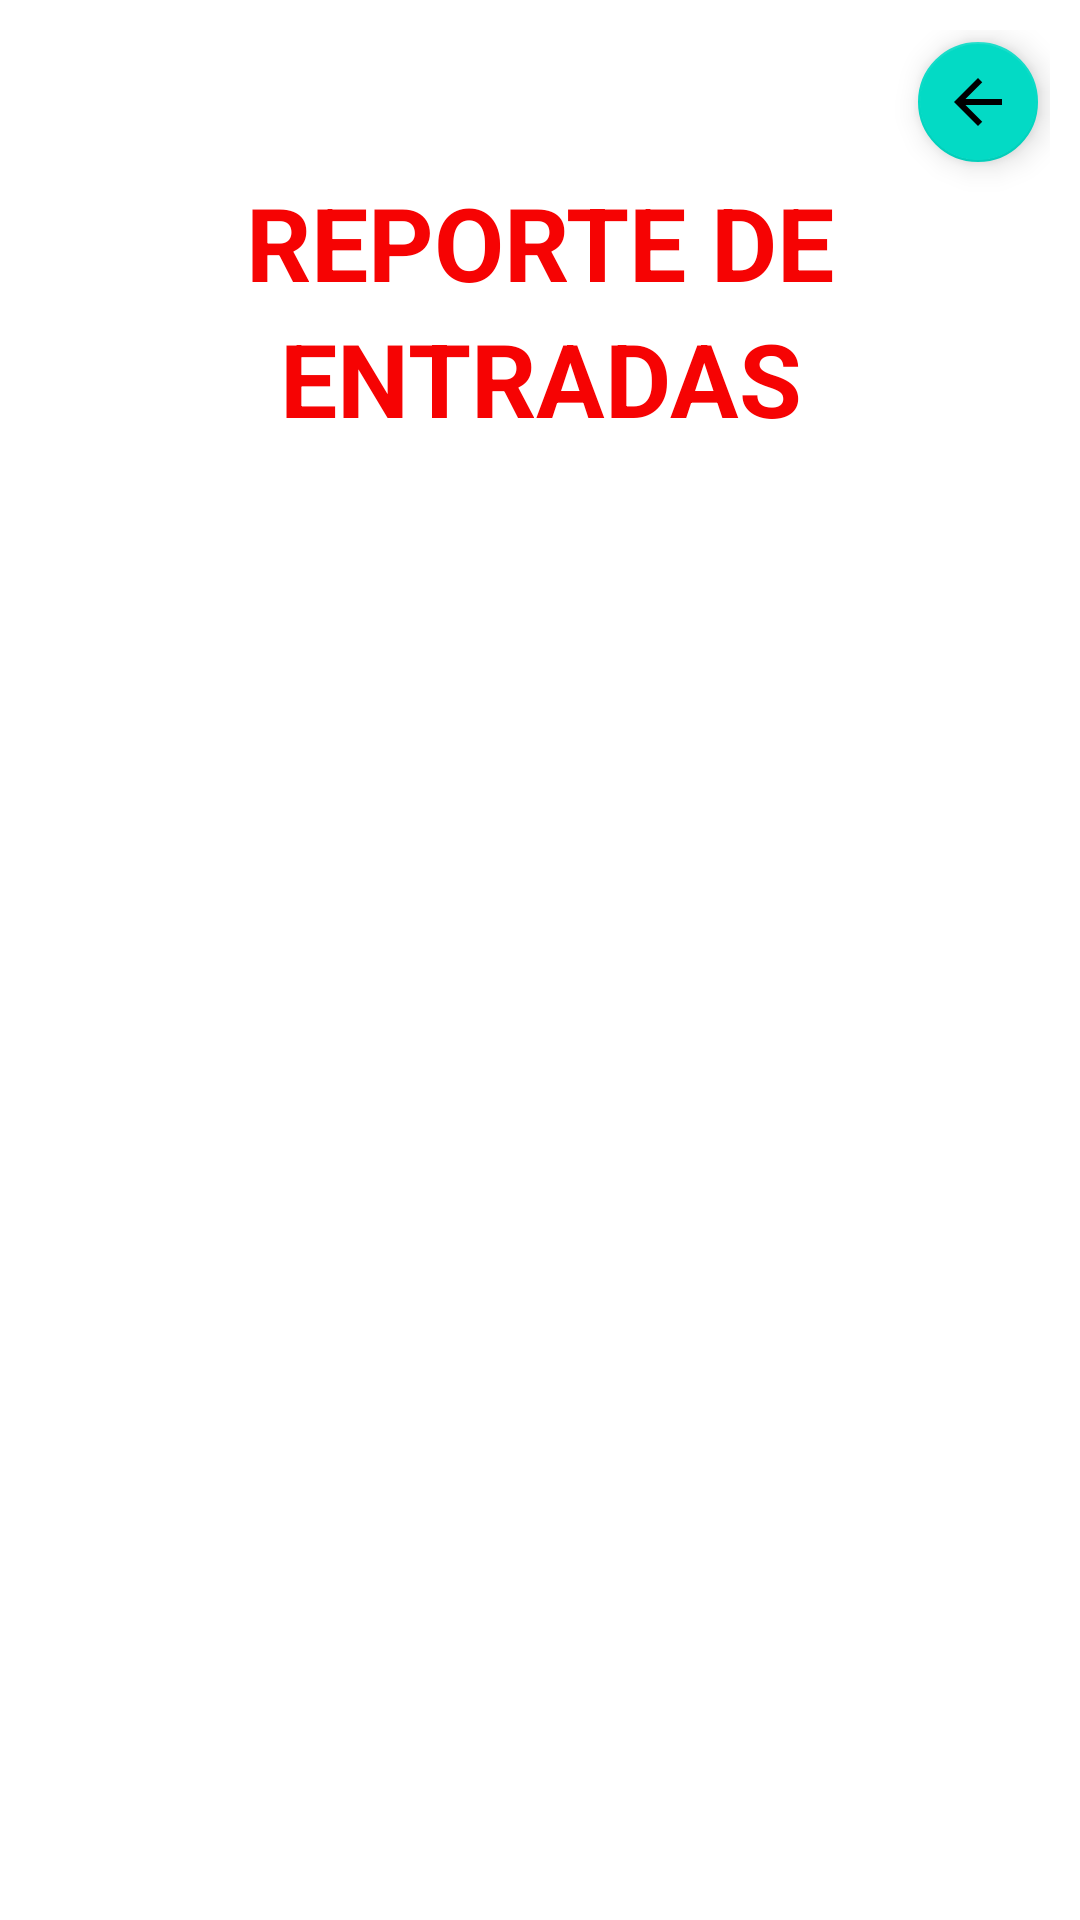

Where to tap for icons on this 1080x1920 app screen, as [x,y]:
flecha atras: [979,102]
